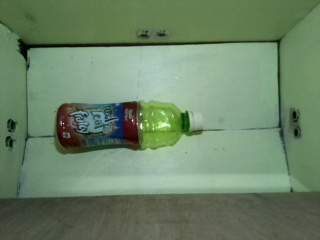bottle: (54, 100, 205, 155)
